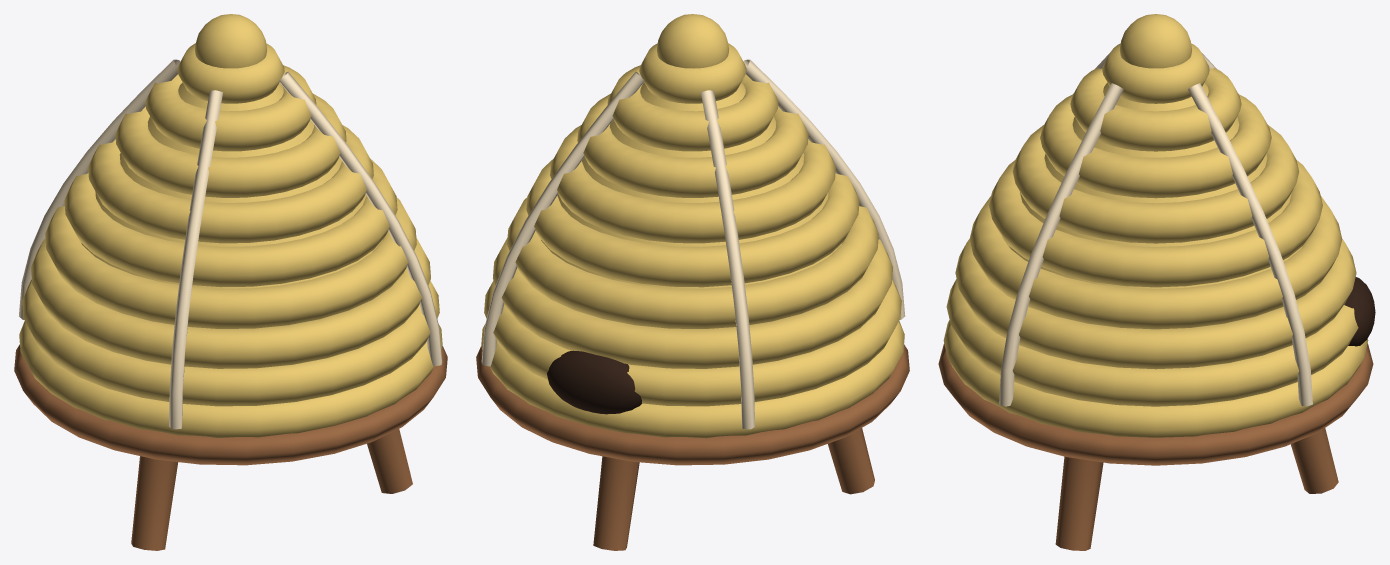
File: HoneySkep.obj
The picture shows the model from 3 angles, left to right: view 1: azimuth 30°, elevation 25°; view 2: azimuth 150°, elevation 25°; view 3: azimuth 270°, elevation 25°; orthographic projection.
Visible parts, largest first — view 1: Straw, Stool, Bands; view 2: Straw, Stool, Bands, Entrance; view 3: Straw, Stool, Bands, Entrance.
Boxes of the visible parts, <box> form: Straw: <box>19,14,442,437</box>; Stool: <box>14,344,447,550</box>; Bands: <box>19,59,442,429</box>; Straw: <box>481,14,904,438</box>; Stool: <box>476,344,909,550</box>; Bands: <box>481,59,905,429</box>; Entrance: <box>547,350,641,414</box>; Straw: <box>943,14,1368,437</box>; Stool: <box>938,343,1373,550</box>; Bands: <box>999,52,1312,406</box>; Entrance: <box>1344,277,1375,346</box>.
Bounding box in the file's own units: 4.2 × 5.04 × 4.22.
